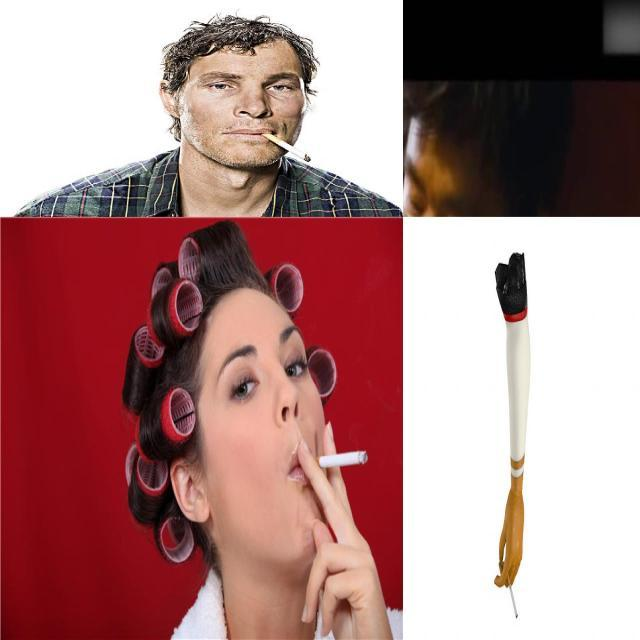smoking: (260, 132, 314, 162), (309, 448, 369, 471), (506, 570, 518, 620)
